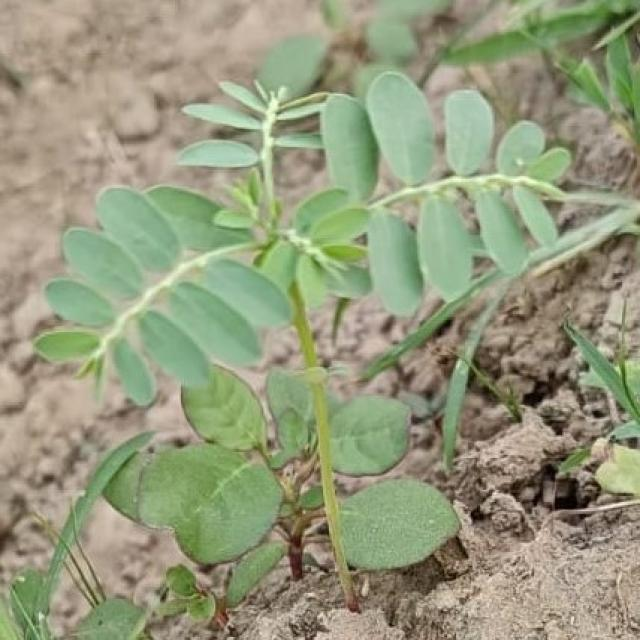plant: (14, 39, 640, 632)
